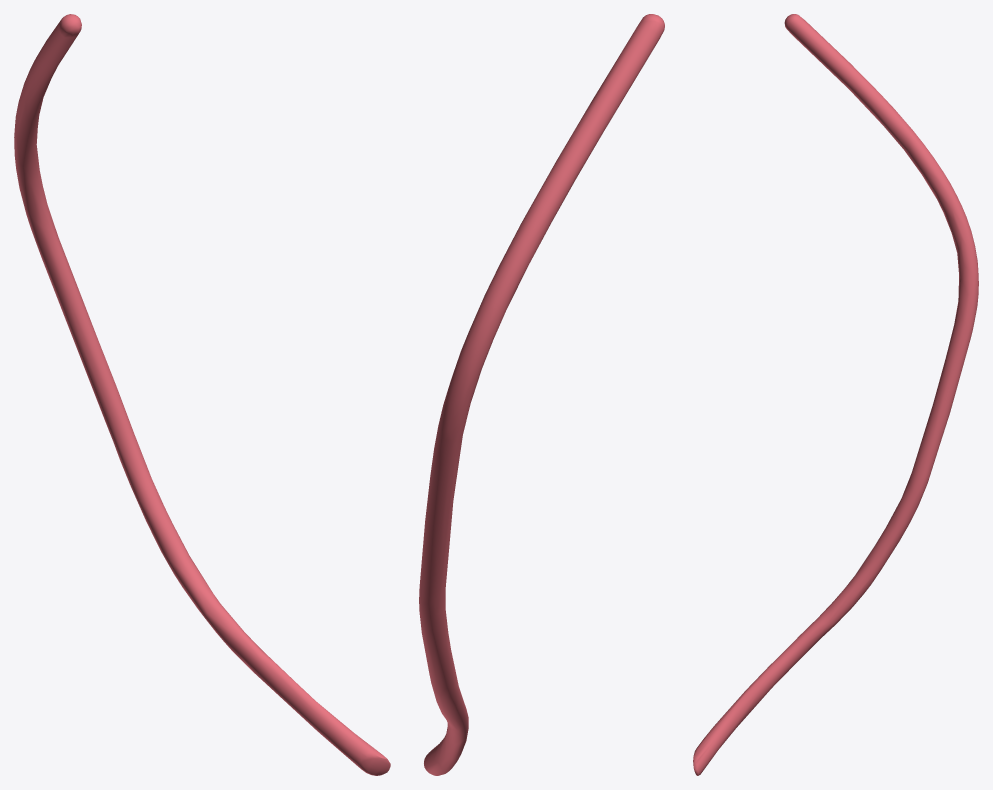
The model's file is fma4877_fj1991.glb.
3 renders of one model, left to right at view 1: azimuth 30°, elevation 25°; view 2: azimuth 150°, elevation 25°; view 3: azimuth 270°, elevation 25°, orthographic. The views are drawn at different scales.
Parts seen in each view (by area): view 1: FMA4877_FJ1991; view 2: FMA4877_FJ1991; view 3: FMA4877_FJ1991.
Boxes of the visible parts, x1,y1,x2,y2 form: FMA4877_FJ1991: [14, 14, 390, 775]; FMA4877_FJ1991: [419, 14, 664, 775]; FMA4877_FJ1991: [693, 14, 978, 775].
Bounding box in the file's own units: 0.0266 × 0.073 × 0.0288.
